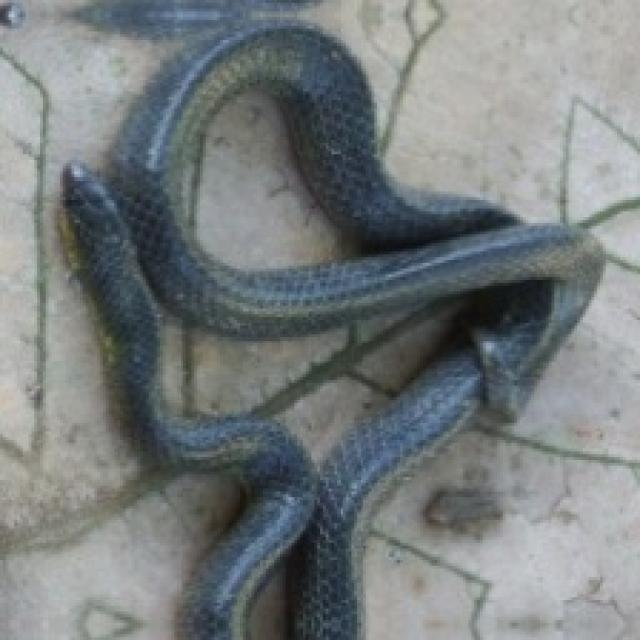gunthers philippine shrub snake: (63, 20, 603, 637), (154, 291, 477, 474), (191, 83, 366, 271)
